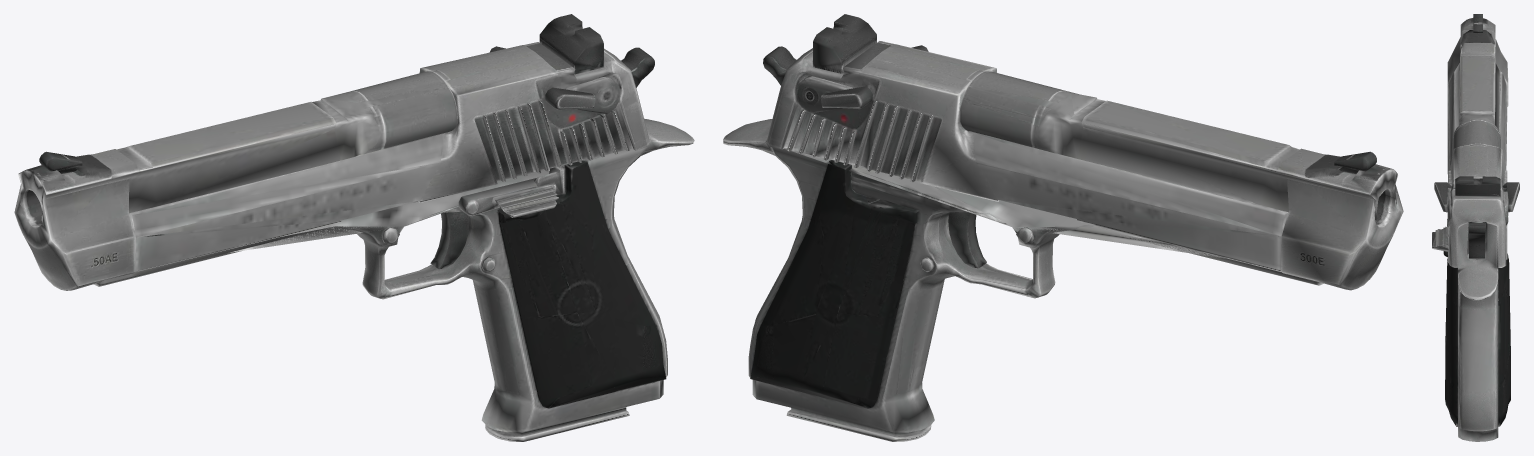
The model's file is arma_deagle.glb.
The picture shows the model from 3 angles, left to right: view 1: azimuth 30°, elevation 25°; view 2: azimuth 150°, elevation 25°; view 3: azimuth 270°, elevation 25°; orthographic projection. The views are drawn at different scales.
Bounding box in the file's own units: 0.9604 × 0.539 × 0.1748.
Materials: 1 (1 with a texture image).
